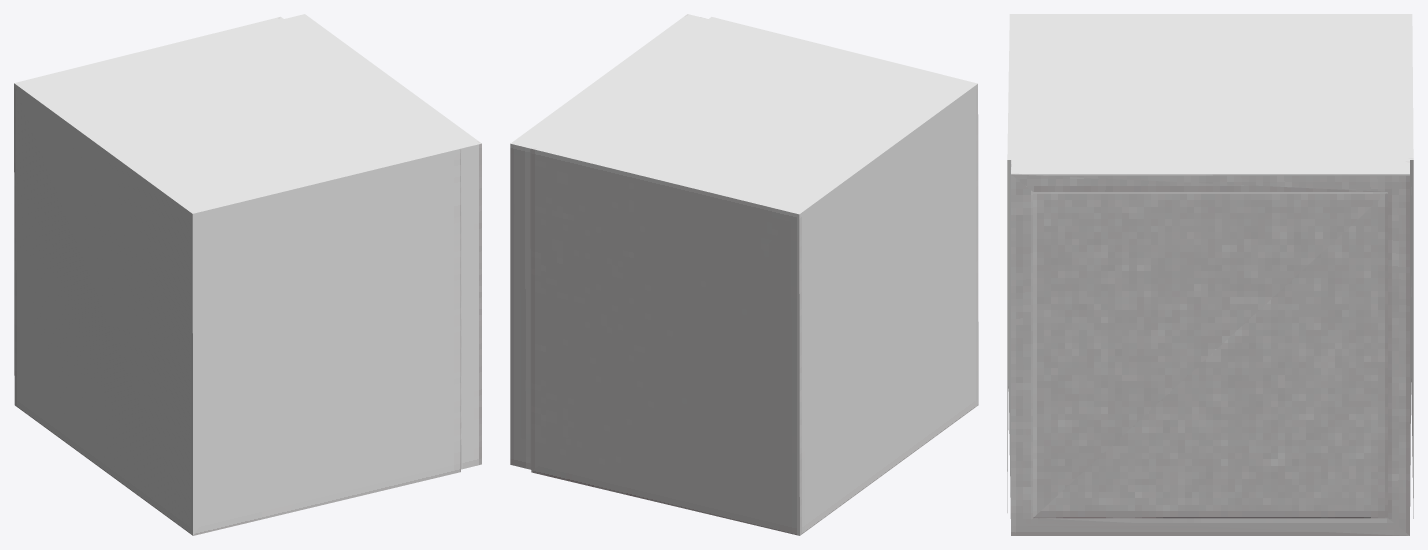
Rendered from fridge_glass.glb.
The picture shows the model from 3 angles, left to right: view 1: azimuth 30°, elevation 25°; view 2: azimuth 150°, elevation 25°; view 3: azimuth 270°, elevation 25°; orthographic projection. The views are drawn at different scales.
Visible parts, largest first — view 1: mesh; view 2: mesh; view 3: mesh.
Part boxes in pixels (x1=…): mesh: x1=14, y1=14, x2=481, y2=535; mesh: x1=510, y1=14, x2=978, y2=535; mesh: x1=1007, y1=14, x2=1413, y2=535.
Bounding box in the file's own units: 0.844 × 0.9 × 0.9088.
Materials: 1 (1 with a texture image).
